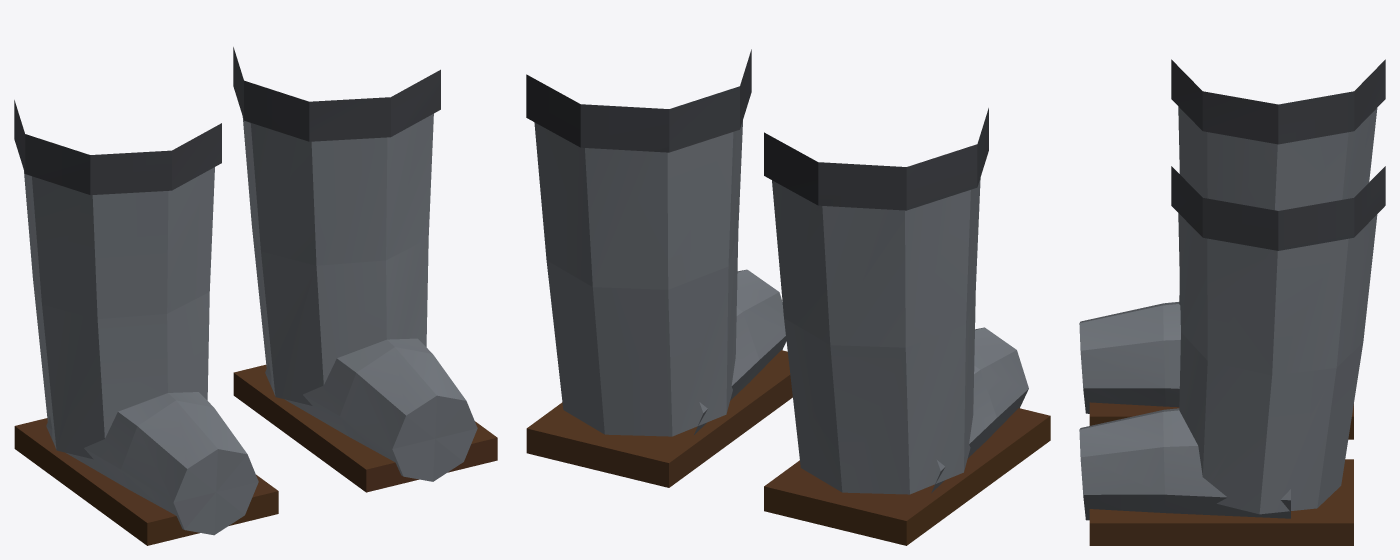
The model's file is gear_boots_iron.glb.
3 renders of one model, left to right at view 1: azimuth 30°, elevation 25°; view 2: azimuth 150°, elevation 25°; view 3: azimuth 270°, elevation 25°, orthographic. The views are drawn at different scales.
Visible parts, largest first — view 1: gear_boots_iron_solid; view 2: gear_boots_iron_solid; view 3: gear_boots_iron_solid.
Part boxes in pixels (box(x1,y1,x2,y2)): gear_boots_iron_solid: box(14, 47, 497, 545); gear_boots_iron_solid: box(526, 49, 1050, 545); gear_boots_iron_solid: box(1079, 59, 1385, 545).
Bounding box in the file's own units: 0.74 × 0.65 × 0.486.
